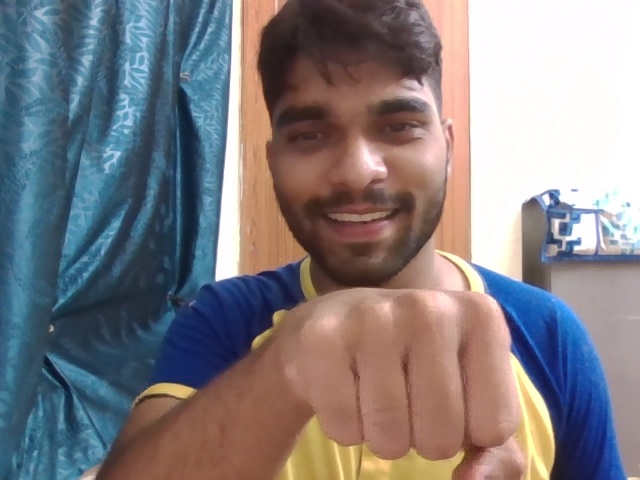Yes: (254, 263, 570, 480)
